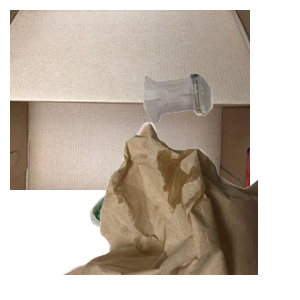cardboard: (10, 10, 250, 190)
glass: (141, 71, 300, 187)
plastic: (88, 182, 242, 300)
trash: (60, 120, 300, 300)
